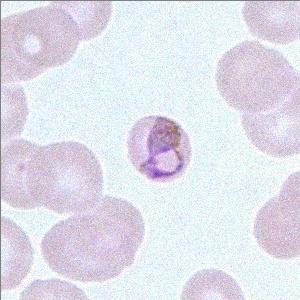Infected: (124, 114, 190, 183)
Uninfected: (41, 218, 133, 282), (215, 39, 295, 111), (25, 140, 100, 215), (67, 194, 144, 264), (241, 76, 300, 158), (14, 5, 79, 66), (2, 137, 56, 209), (0, 14, 52, 86), (251, 193, 300, 258)
